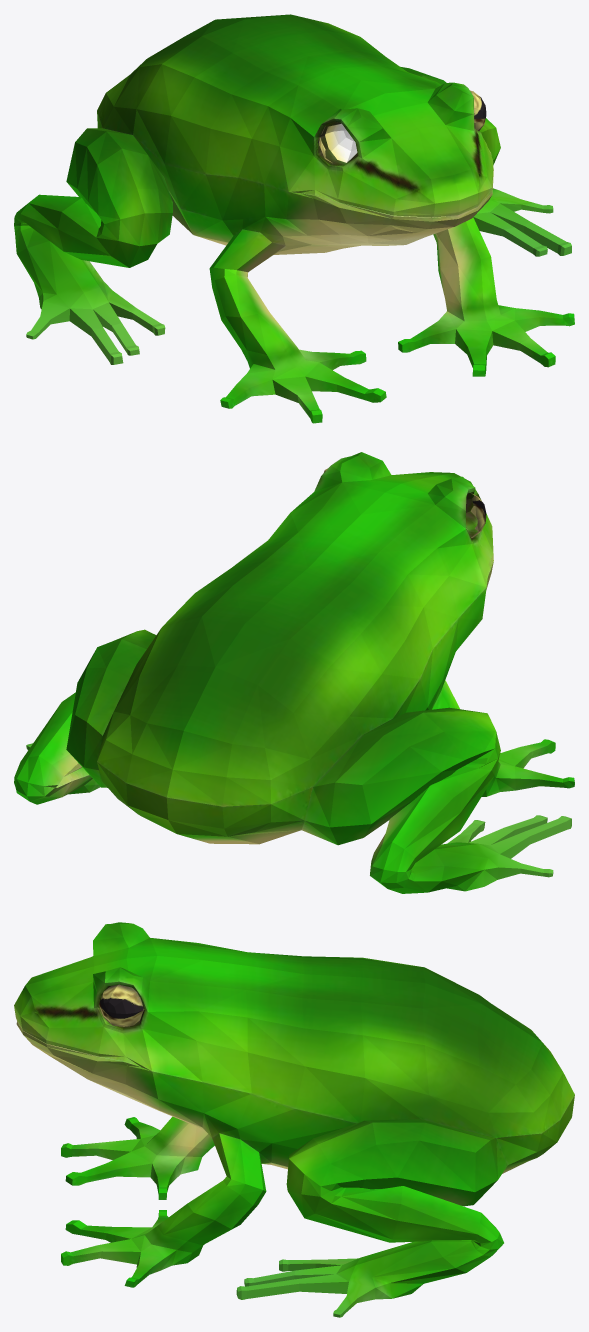
The model's file is 97NtujixdN7.glb.
3 renders of one model, top to bottom at view 1: azimuth 30°, elevation 25°; view 2: azimuth 150°, elevation 25°; view 3: azimuth 270°, elevation 25°, orthographic. The views are drawn at different scales.
Visible parts, largest first — view 1: Node; view 2: Node; view 3: Node.
Boxes of the visible parts, x1,y1,x2,y2 form: Node: [14, 14, 574, 423]; Node: [14, 452, 574, 893]; Node: [14, 922, 574, 1317].
Bounding box in the file's own units: 1.99 × 1 × 1.92.
2 materials, 2 textured.
